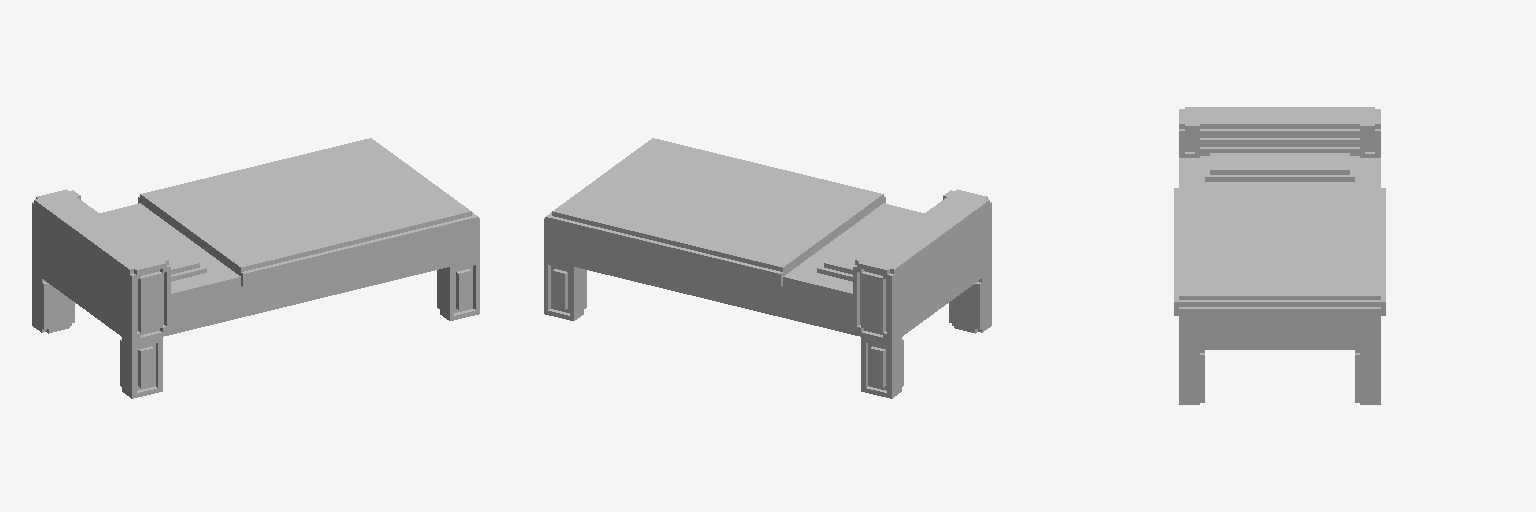
Rendered from bed.obj.
3 views of the same model, side by side, from view 1: azimuth 30°, elevation 25°; view 2: azimuth 150°, elevation 25°; view 3: azimuth 270°, elevation 25° (orthographic).
Visible parts, largest first — view 1: object 1; view 2: object 1; view 3: object 1.
Part boxes in pixels (left/top/right/bottom): object 1: left=32, top=138, right=479, bottom=398; object 1: left=544, top=138, right=991, bottom=398; object 1: left=1174, top=107, right=1385, bottom=404.
Bounding box in the file's own units: 8 × 2.8 × 4.2.